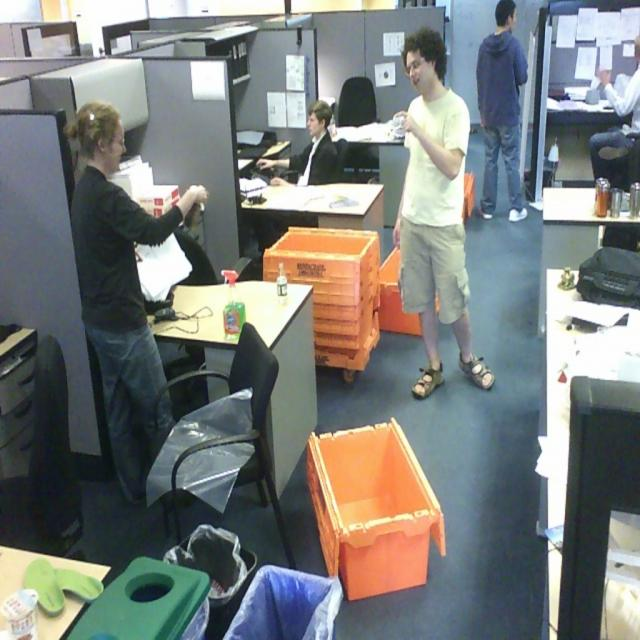Box: (302, 424, 446, 599), (262, 225, 377, 374), (221, 545, 341, 639), (373, 240, 445, 339)
